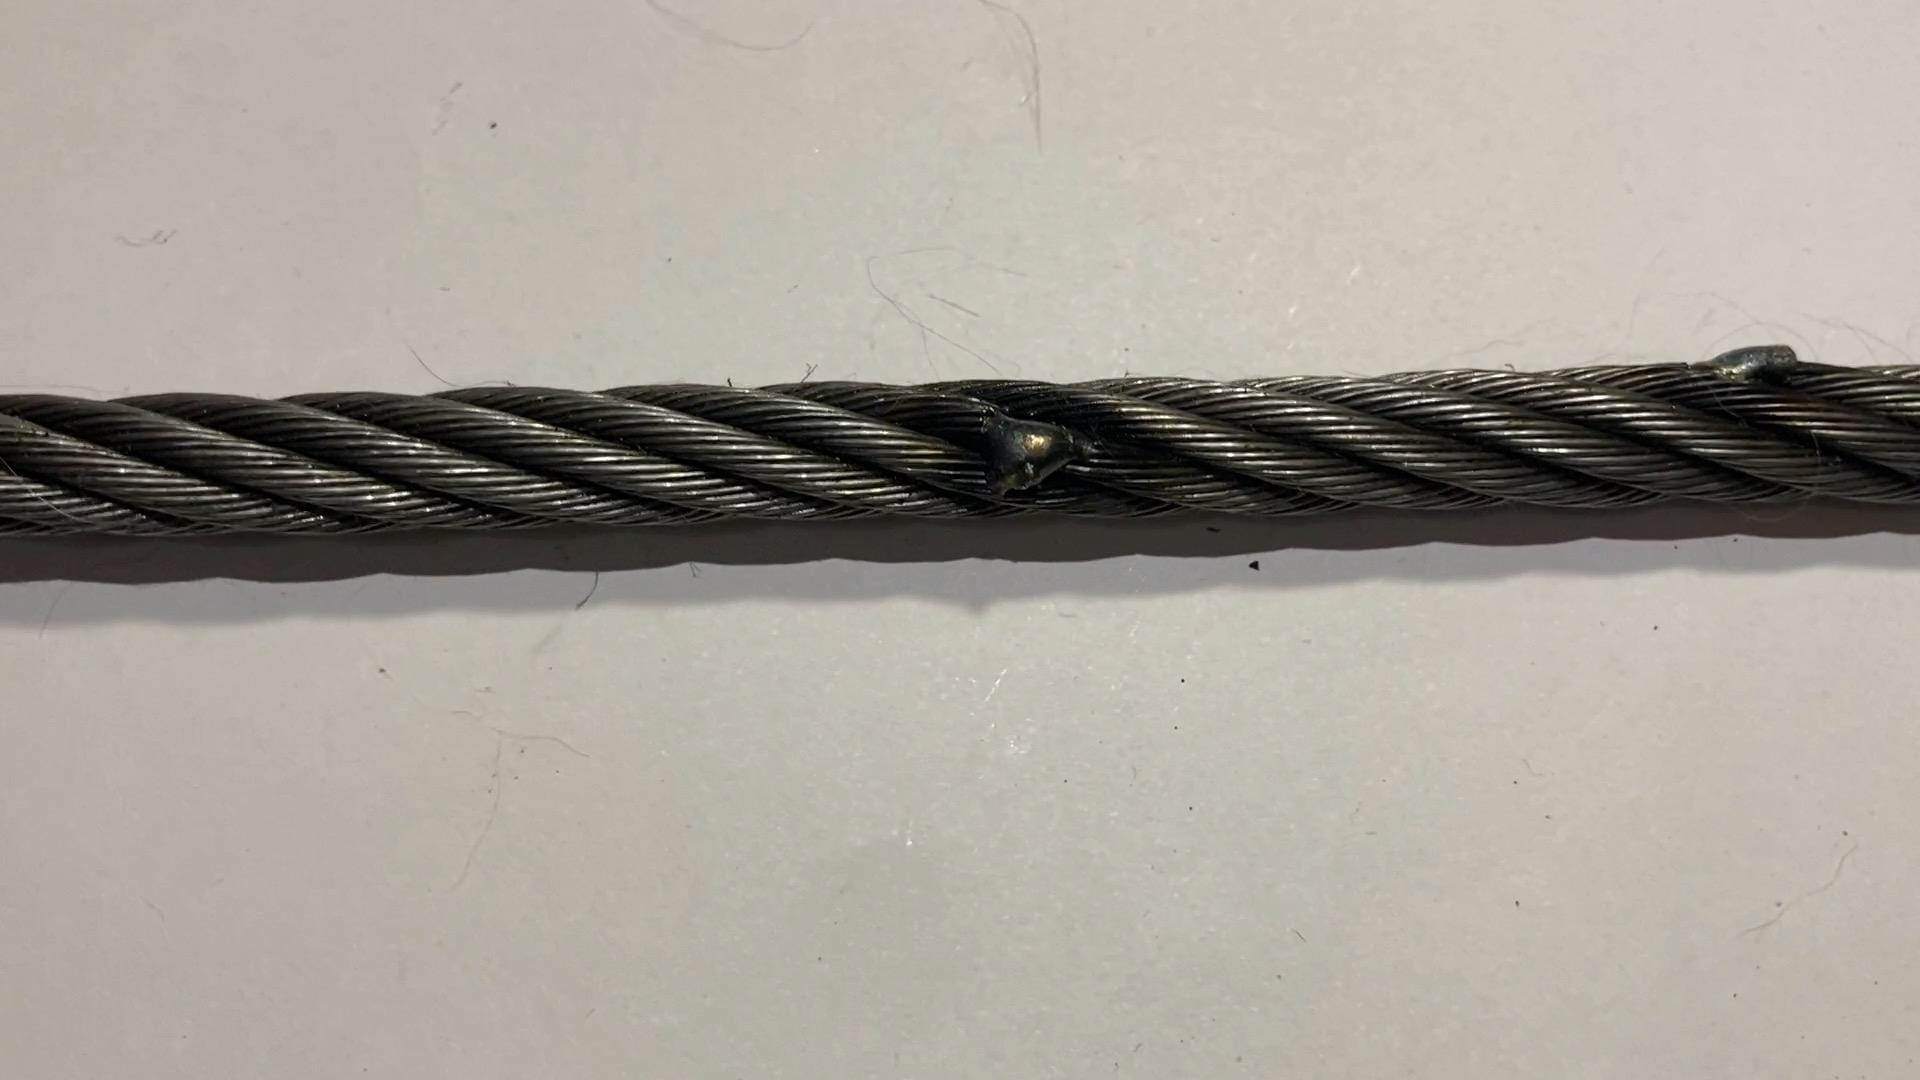thunderbolt: (1671, 327, 1817, 434), (961, 417, 1114, 500)
